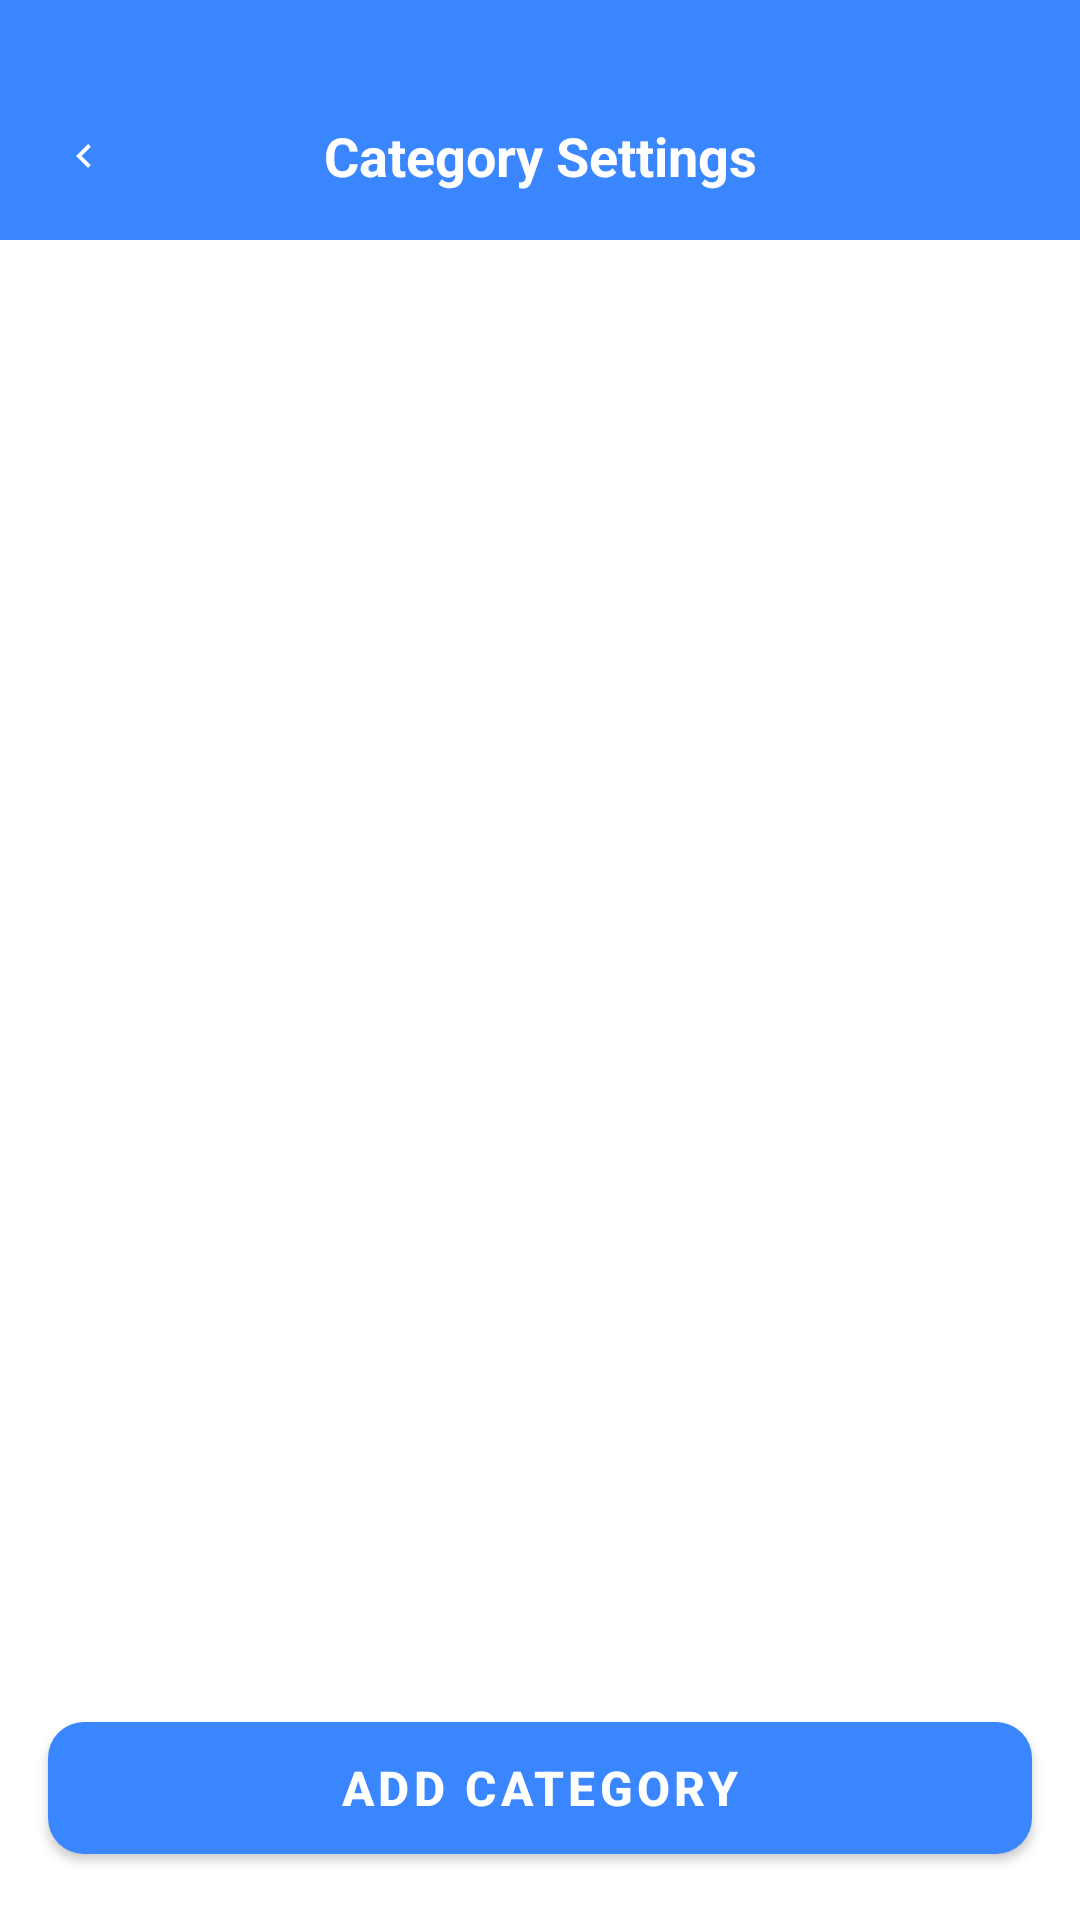

Where icons sit on this 1080px×1920px app screen, as BBox(x1, y1, x2, y2):
chevron backward: BBox(76, 144, 91, 168)
